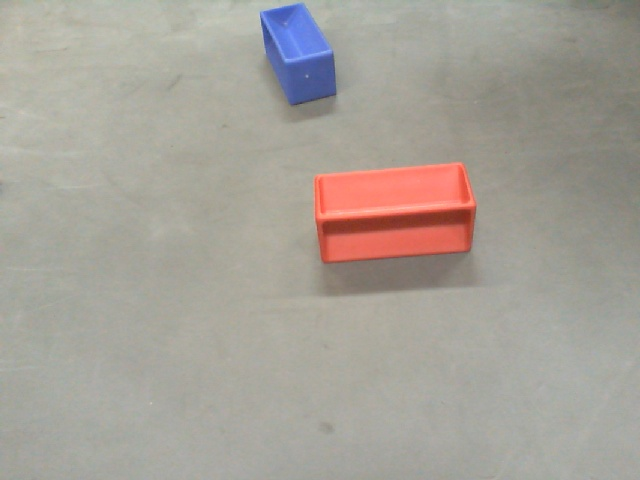BlueSample: (259, 1, 340, 105)
RedSample: (313, 161, 477, 264)
